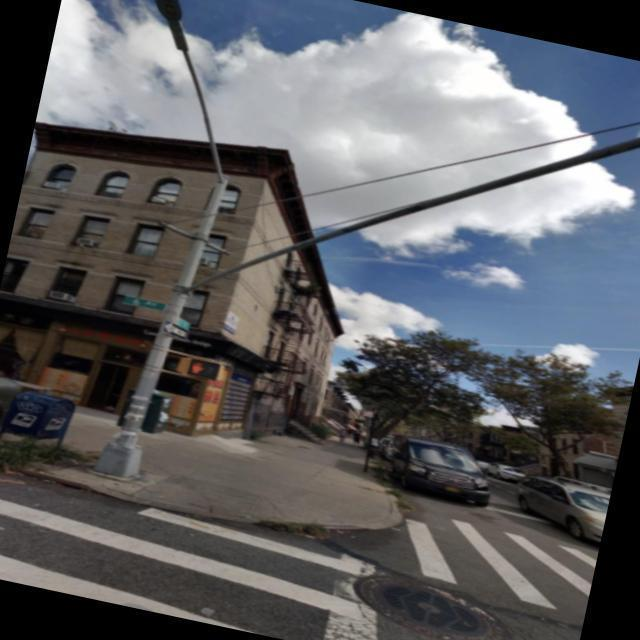off: (150, 0, 274, 292)
